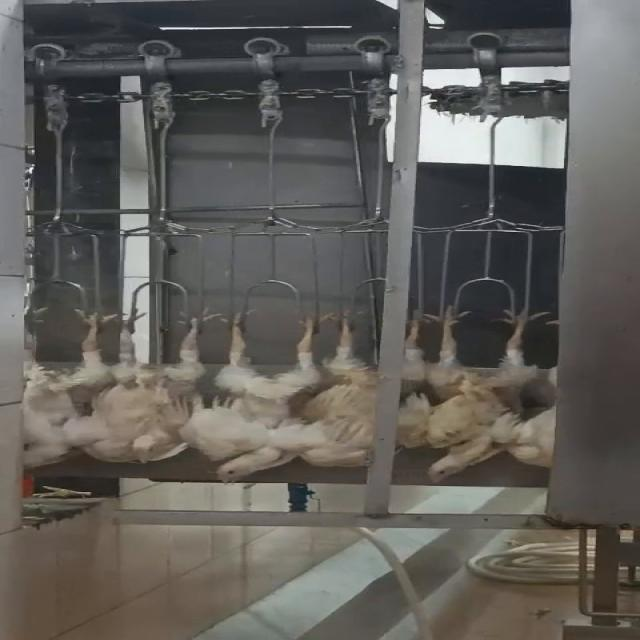chicken: (409, 306, 560, 483), (76, 302, 235, 464), (194, 309, 336, 479), (0, 304, 123, 469), (313, 313, 381, 464)
